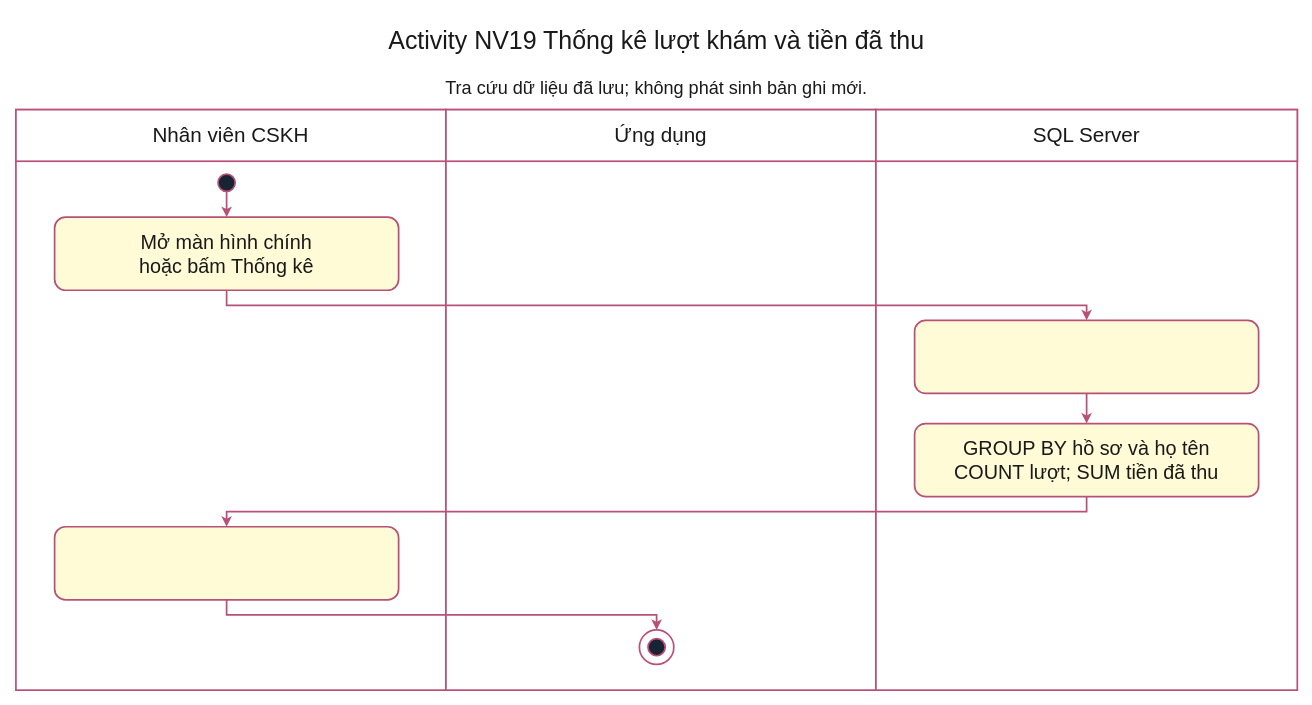
Image size: 1312x705. Some labels were removed from this diagram. Each missing label, with the centre of its shape:
Hiển thị thống kê theo hồ sơ chưa khám: 0 lượt và 0 tiền: point (226, 562)
LEFT JOIN hồ sơ với phiếu khám và giao dịch đã thanh toán: point (1086, 356)
